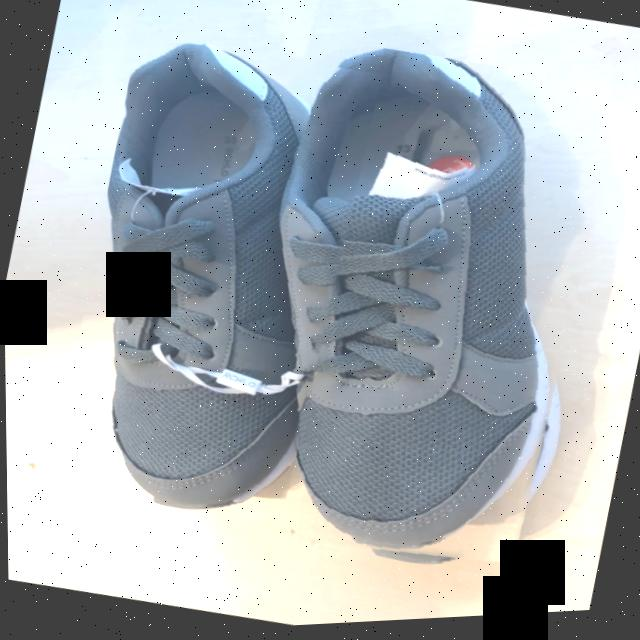shoe: (278, 53, 552, 559), (105, 46, 308, 513)
